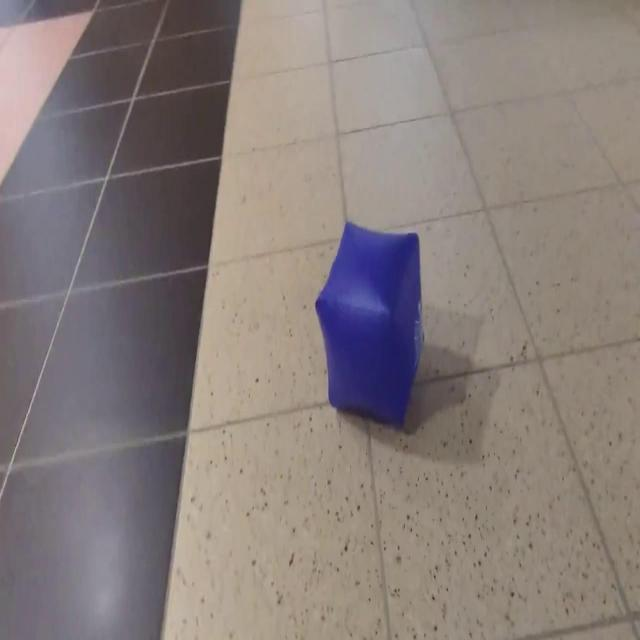frc_cube: (315, 220, 421, 422)
